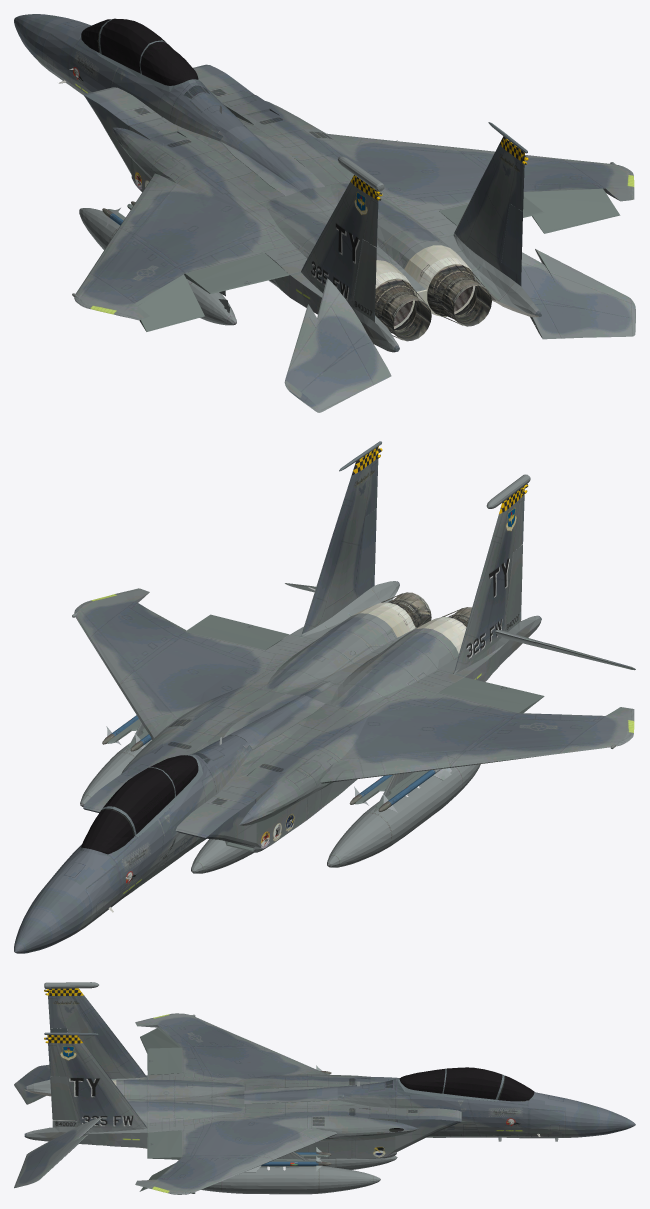
File: F-15C_Eagle.fbx
The picture shows the model from 3 angles, top to bottom: view 1: azimuth 30°, elevation 25°; view 2: azimuth 150°, elevation 25°; view 3: azimuth 270°, elevation 25°; orthographic projection. The views are drawn at different scales.
Parts seen in each view (by area): view 1: Wings_Main, Body, Rear_Right_Wing_Flap_2, Rear_Left_Wing_Flap_3, Glass_2, Middle_Brake_Flap_Outer, Rear_Left_Wing_Flap_, Rear_Left_Wing_Flap_2, Rear_Right_Wing_Flap, Bombs, Rear_Right_Engiine_ring_, Rear_Left_Engine_Ring (+3 smaller); view 2: Wings_Main, Body, Bombs, Glass_2, Middle_Brake_Flap_Outer, Rear_Left_Wing_Flap_2, Rear_Right_Wing_Flap_3, Glass_1, Missiles, Rear_Fin_Flap_Left, Rear_Fin_Flap_Right, Rear_Right_Wing_Flap_2; view 3: Wings_Main, Body, Bombs, Glass_2, Rear_Left_Wing_Flap_3, Middle_Brake_Flap_Outer, Rear_Right_Wing_Flap_3, Rear_Fin_Flap_Left, Rear_Left_Wing_Flap_2, Rear_Right_Wing_Flap_2, Glass_1, Missiles (+2 smaller).
Part boxes in pixels (x1,y1,x2,y2): Wings_Main: (74, 64, 634, 347); Body: (14, 14, 634, 352); Rear_Right_Wing_Flap_2: (284, 278, 391, 412); Rear_Left_Wing_Flap_3: (521, 249, 635, 339); Glass_2: (100, 18, 198, 85); Middle_Brake_Flap_Outer: (218, 125, 324, 195); Rear_Left_Wing_Flap_: (523, 188, 620, 233); Rear_Left_Wing_Flap_2: (184, 253, 289, 293); Rear_Right_Wing_Flap: (135, 274, 204, 331); Bombs: (79, 208, 277, 325); Rear_Right_Engiine_ring_: (442, 277, 491, 326); Rear_Left_Engine_Ring: (381, 292, 431, 341); Wings_Main: (74, 581, 634, 837); Body: (14, 441, 634, 953); Bombs: (80, 739, 480, 873); Glass_2: (103, 755, 198, 833); Middle_Brake_Flap_Outer: (223, 694, 324, 749); Rear_Left_Wing_Flap_2: (439, 677, 544, 713); Rear_Right_Wing_Flap_3: (185, 614, 289, 649); Glass_1: (81, 809, 133, 854); Missiles: (102, 715, 451, 812); Rear_Fin_Flap_Left: (357, 508, 376, 588); Rear_Fin_Flap_Right: (505, 544, 522, 624); Rear_Right_Wing_Flap_2: (495, 630, 635, 670); Wings_Main: (26, 1013, 461, 1194); Body: (24, 982, 635, 1194); Bombs: (201, 1156, 397, 1194); Glass_2: (399, 1067, 502, 1099); Rear_Left_Wing_Flap_3: (14, 1117, 101, 1188); Middle_Brake_Flap_Outer: (244, 1086, 343, 1103); Rear_Right_Wing_Flap_3: (147, 1130, 181, 1159); Rear_Fin_Flap_Left: (50, 1076, 77, 1121); Rear_Left_Wing_Flap_2: (147, 1047, 181, 1074); Rear_Right_Wing_Flap_2: (14, 1065, 50, 1104); Glass_1: (499, 1075, 534, 1101); Missiles: (245, 1065, 331, 1172).
Bounding box in the file's own units: 1304 × 552 × 1895.
Materials: 14 (14 with a texture image).
